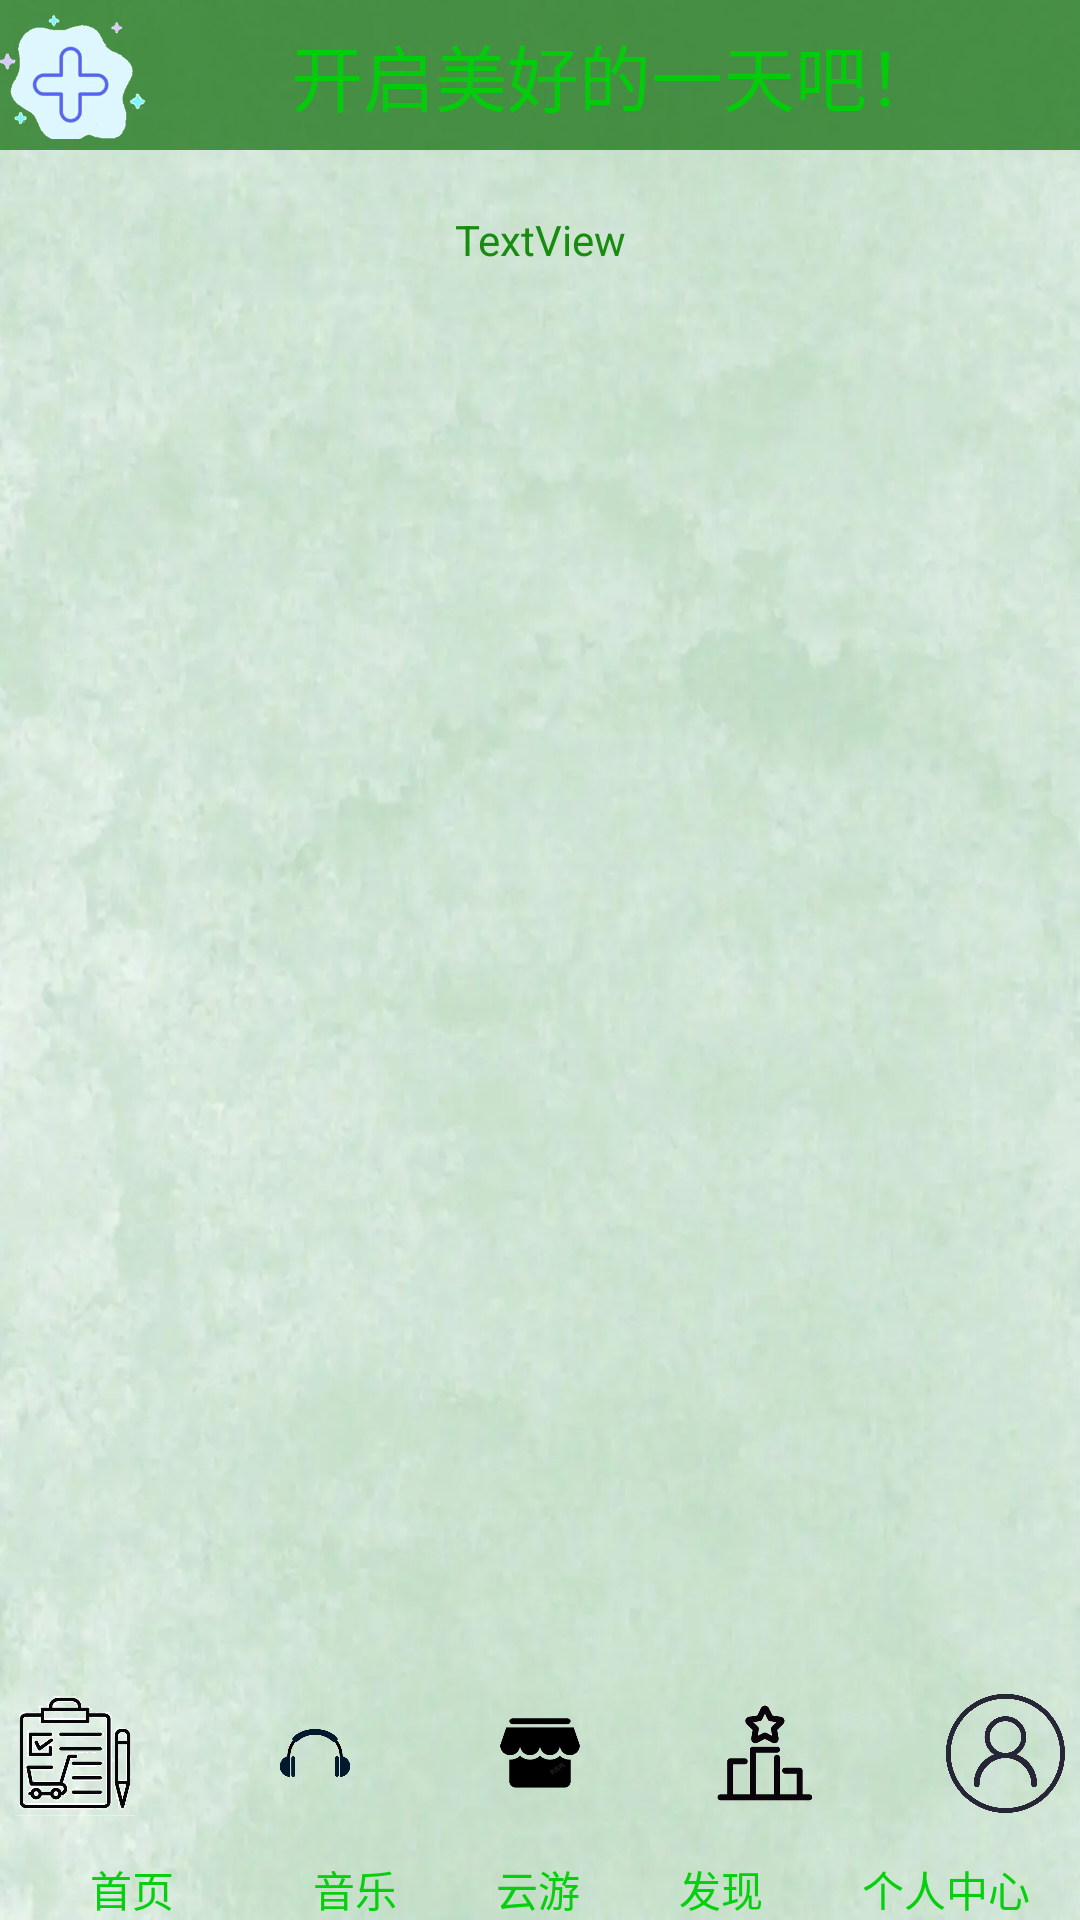

Point at icon controls on the screen. Image size 1080 x 1920, points as (x=x, y=y).
add: (x=72, y=77)
mus: (x=315, y=1753)
orderlist: (x=74, y=1752)
person: (x=1005, y=1753)
